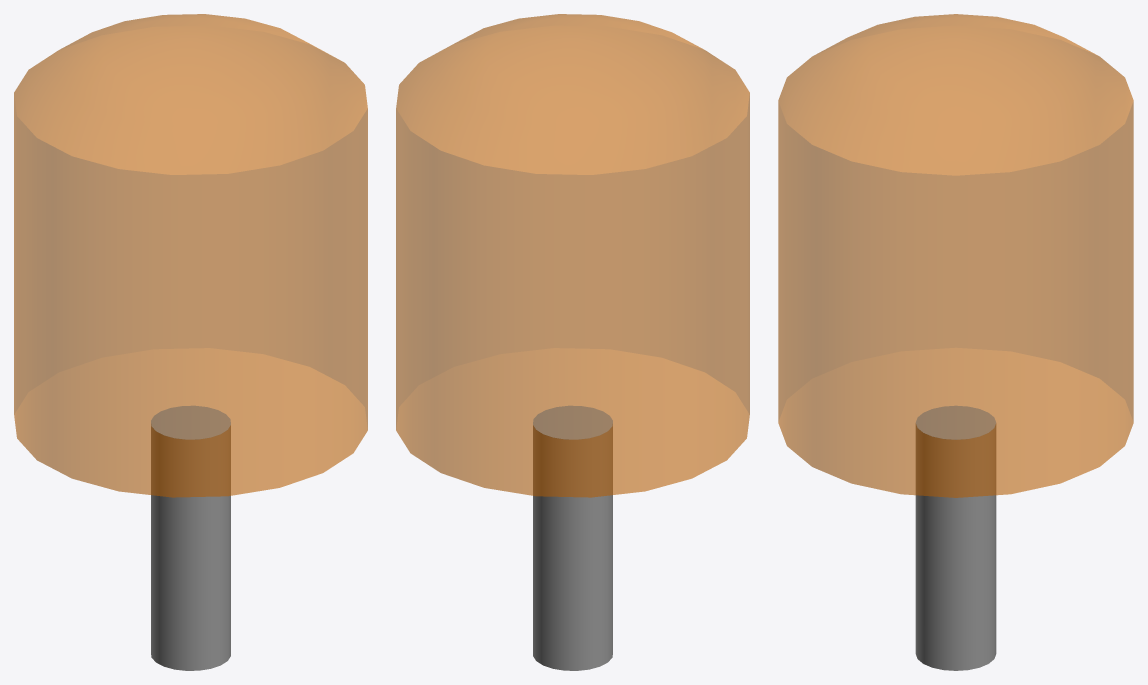
The model's file is WarningLight.fbx.
3 views of the same model, side by side, from view 1: azimuth 30°, elevation 25°; view 2: azimuth 150°, elevation 25°; view 3: azimuth 270°, elevation 25° (orthographic).
Parts seen in each view (by area): view 1: pCylinder16; view 2: pCylinder16; view 3: pCylinder16.
Boxes of the visible parts, <box> form: pCylinder16: <box>14,14,367,670</box>; pCylinder16: <box>396,14,749,670</box>; pCylinder16: <box>778,14,1133,670</box>.
Size of the model in its own units: 0.76 by 1.45 by 0.76.
